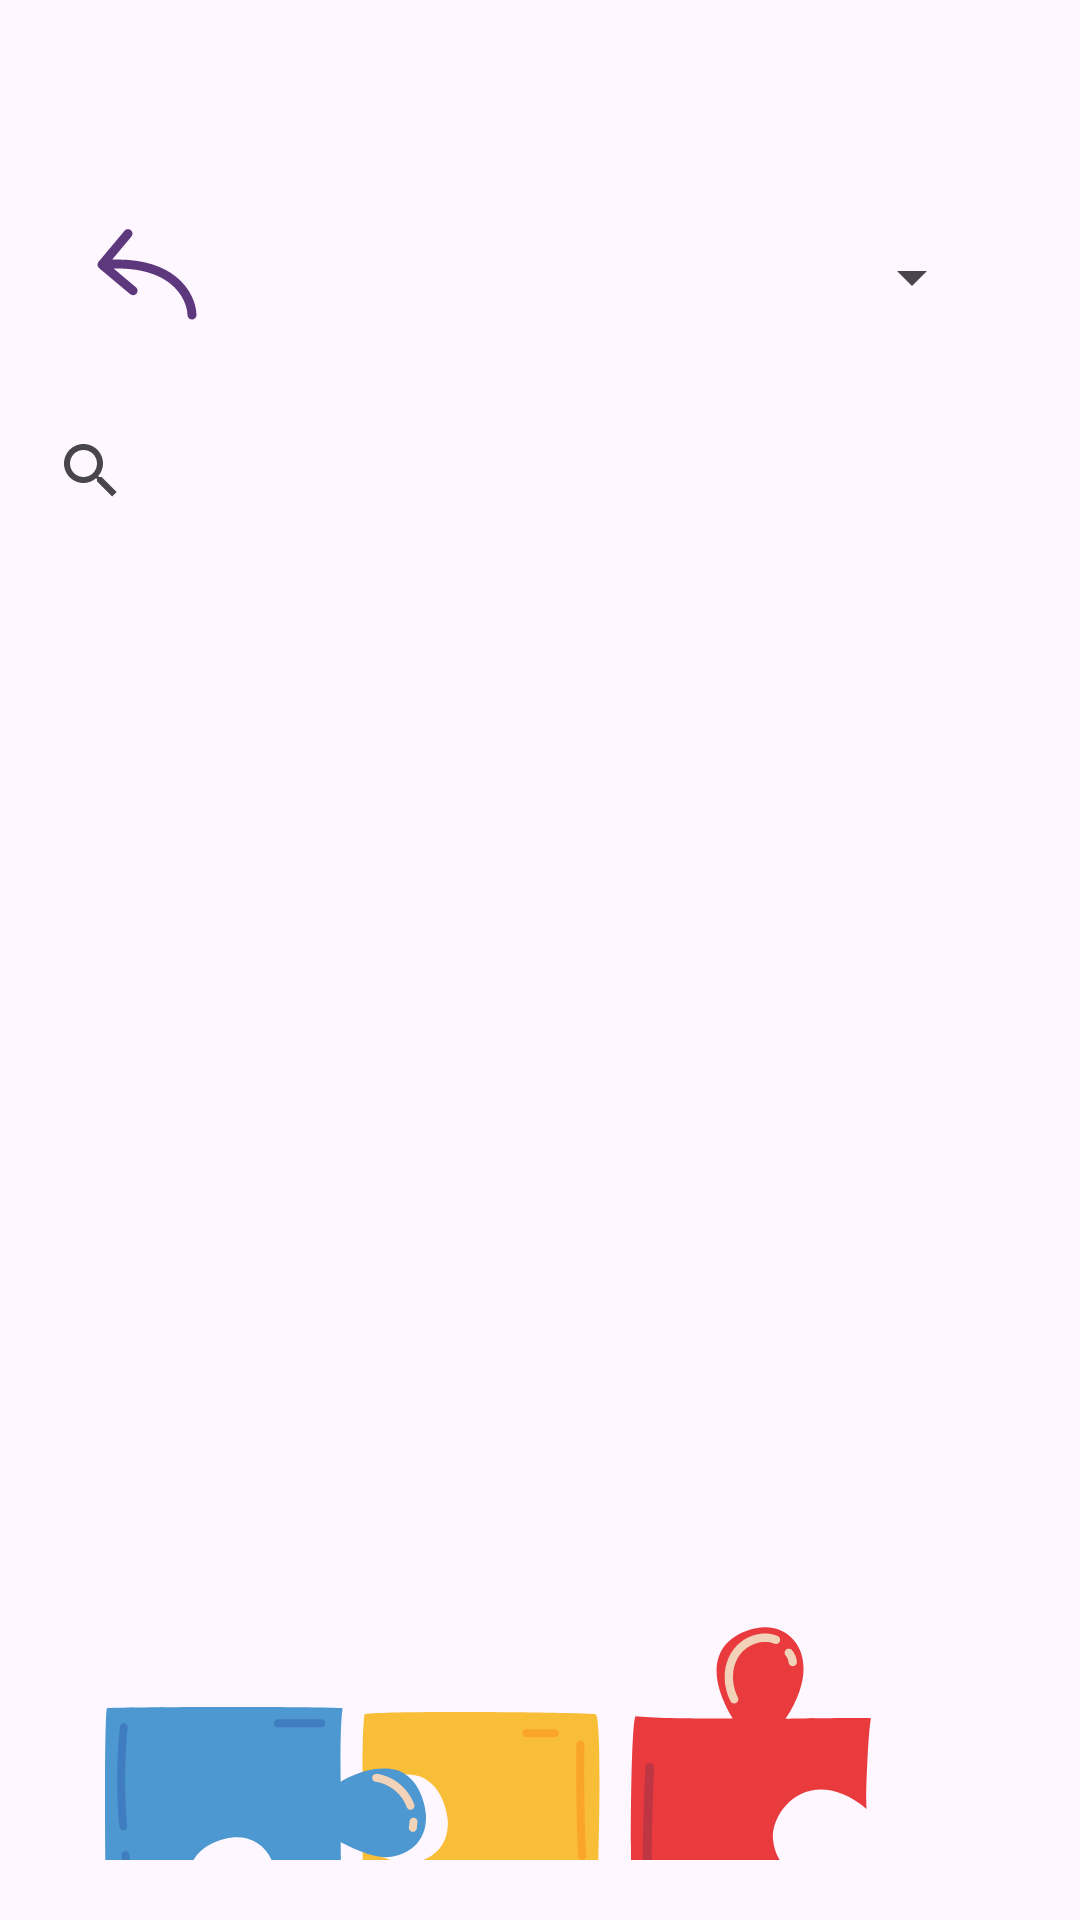

Icon click points for this 1080x1920 phone screenshot, format (x=x, y=y):
back: (x=147, y=274)
